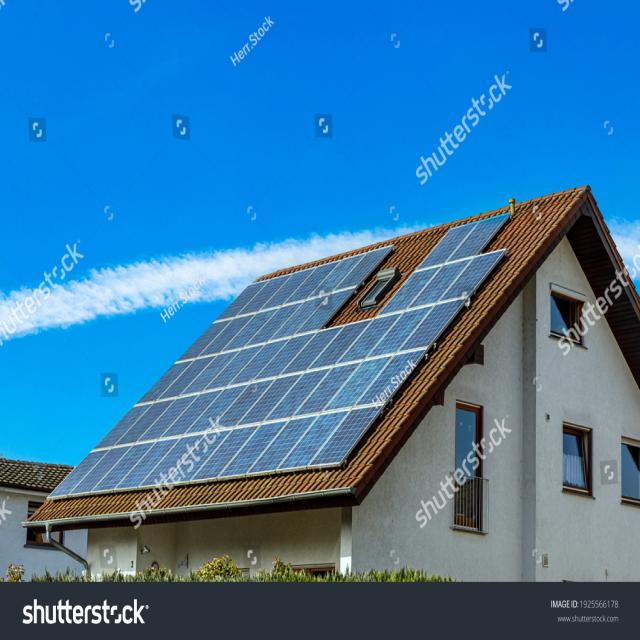dust-solar-panel: (51, 213, 509, 499)
